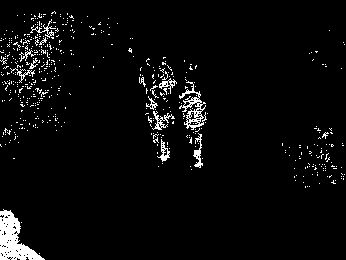person: (179, 79, 210, 172), (144, 82, 177, 164)
